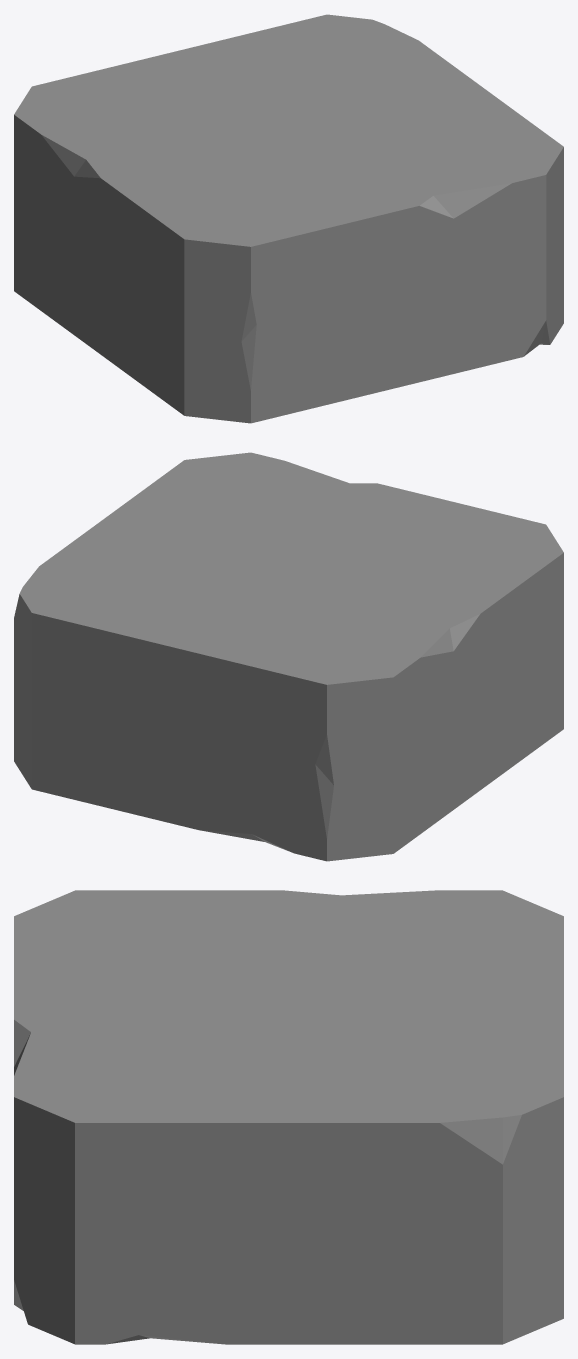
Rendered from SW_ENV_ConcretePillarTop.fbx.
The picture shows the model from 3 angles, top to bottom: view 1: azimuth 30°, elevation 25°; view 2: azimuth 150°, elevation 25°; view 3: azimuth 270°, elevation 25°; orthographic projection. The views are drawn at different scales.
Parts seen in each view (by area): view 1: SW_ENV_ConcretePillarTop; view 2: SW_ENV_ConcretePillarTop; view 3: SW_ENV_ConcretePillarTop.
Boxes of the visible parts, bbox=[...] form: SW_ENV_ConcretePillarTop: bbox=[14, 14, 563, 423]; SW_ENV_ConcretePillarTop: bbox=[14, 452, 563, 861]; SW_ENV_ConcretePillarTop: bbox=[14, 890, 563, 1344].
Size of the model in its own units: 90 by 40.01 by 90.
